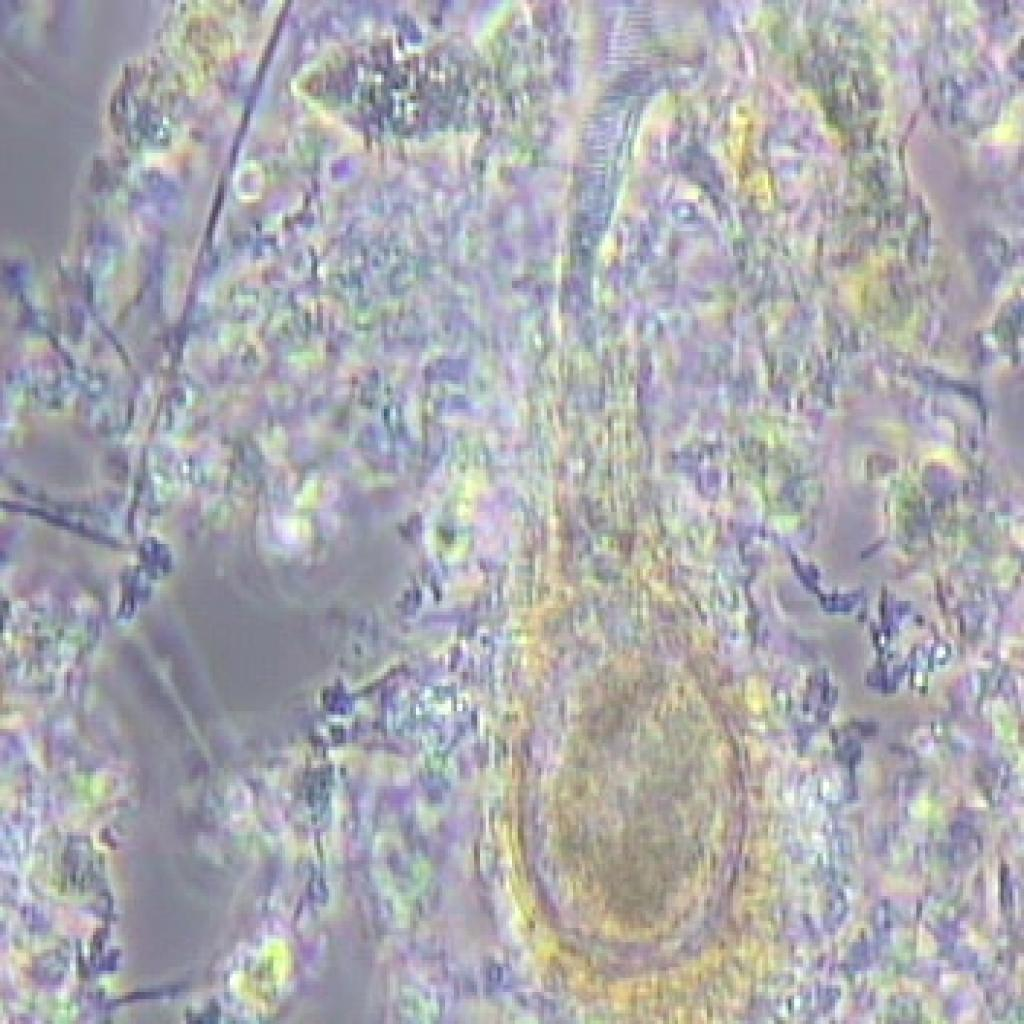Chaetopira: (487, 78, 790, 1014)
